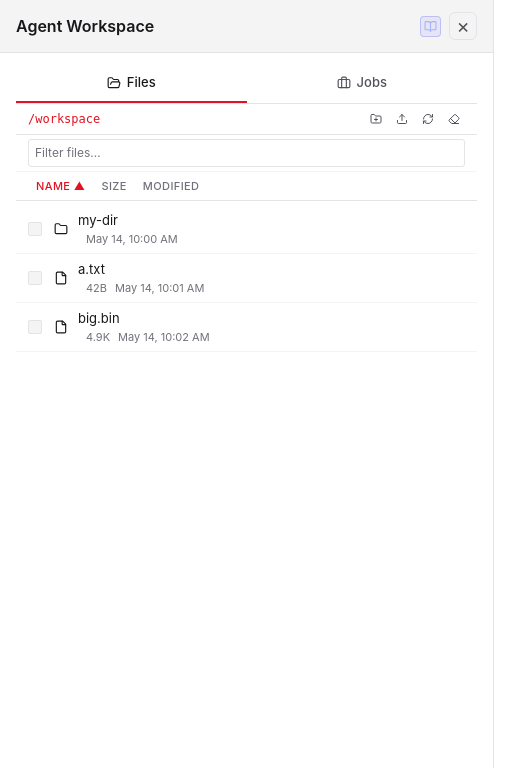
FileSystemDrawer: preview pane › Back button returns to file list
This screenshot has width=511, height=768.
Expected: the text "a.txt" is shown, [78,261,105,277]
Click the text "a.txt" at (141, 278), box [78,261,204,294]
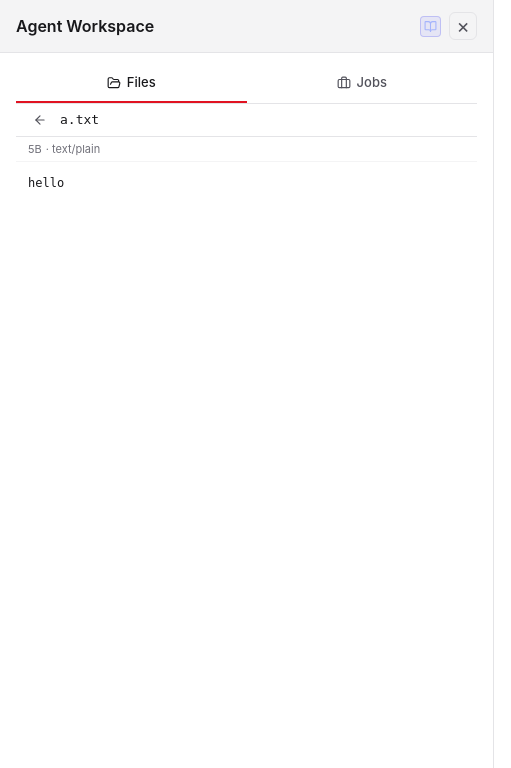
Now the text "hello" is shown, box [28,176,64,190]
Click the button titled "Back to files" at (40, 120), box [28,110,52,130]
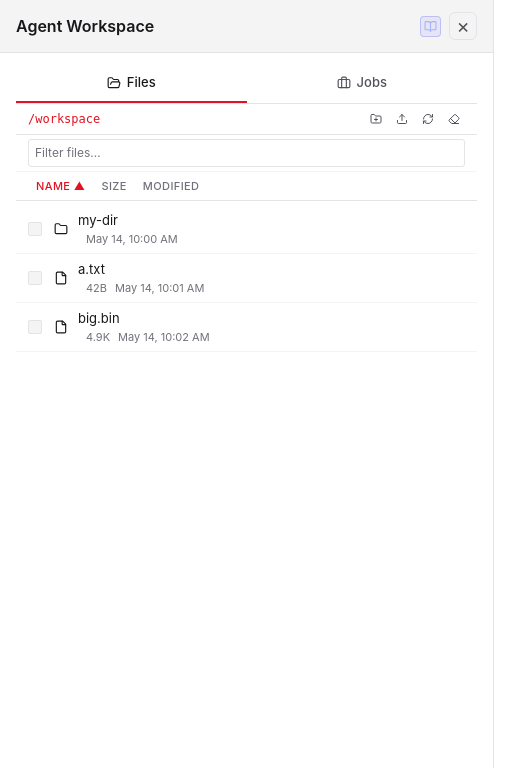
Now the text "my-dir" is shown, box [78,212,118,228]
Now the text "hello" is gone
